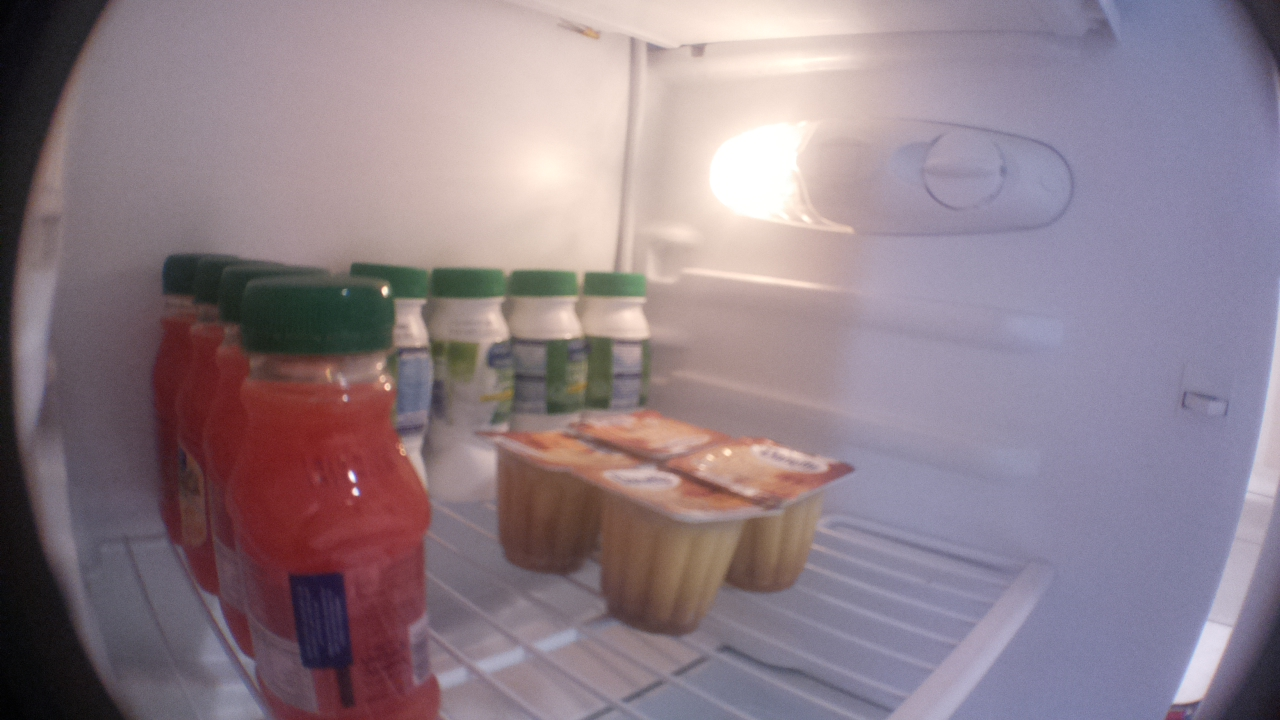caramel: (571, 459, 754, 644), (669, 434, 856, 592), (480, 430, 637, 572), (566, 400, 726, 462)
juice: (231, 270, 443, 720), (214, 265, 246, 660), (149, 250, 190, 555), (177, 254, 207, 579)
laban: (427, 256, 513, 505), (508, 261, 584, 430), (579, 267, 654, 407), (394, 261, 443, 471)
